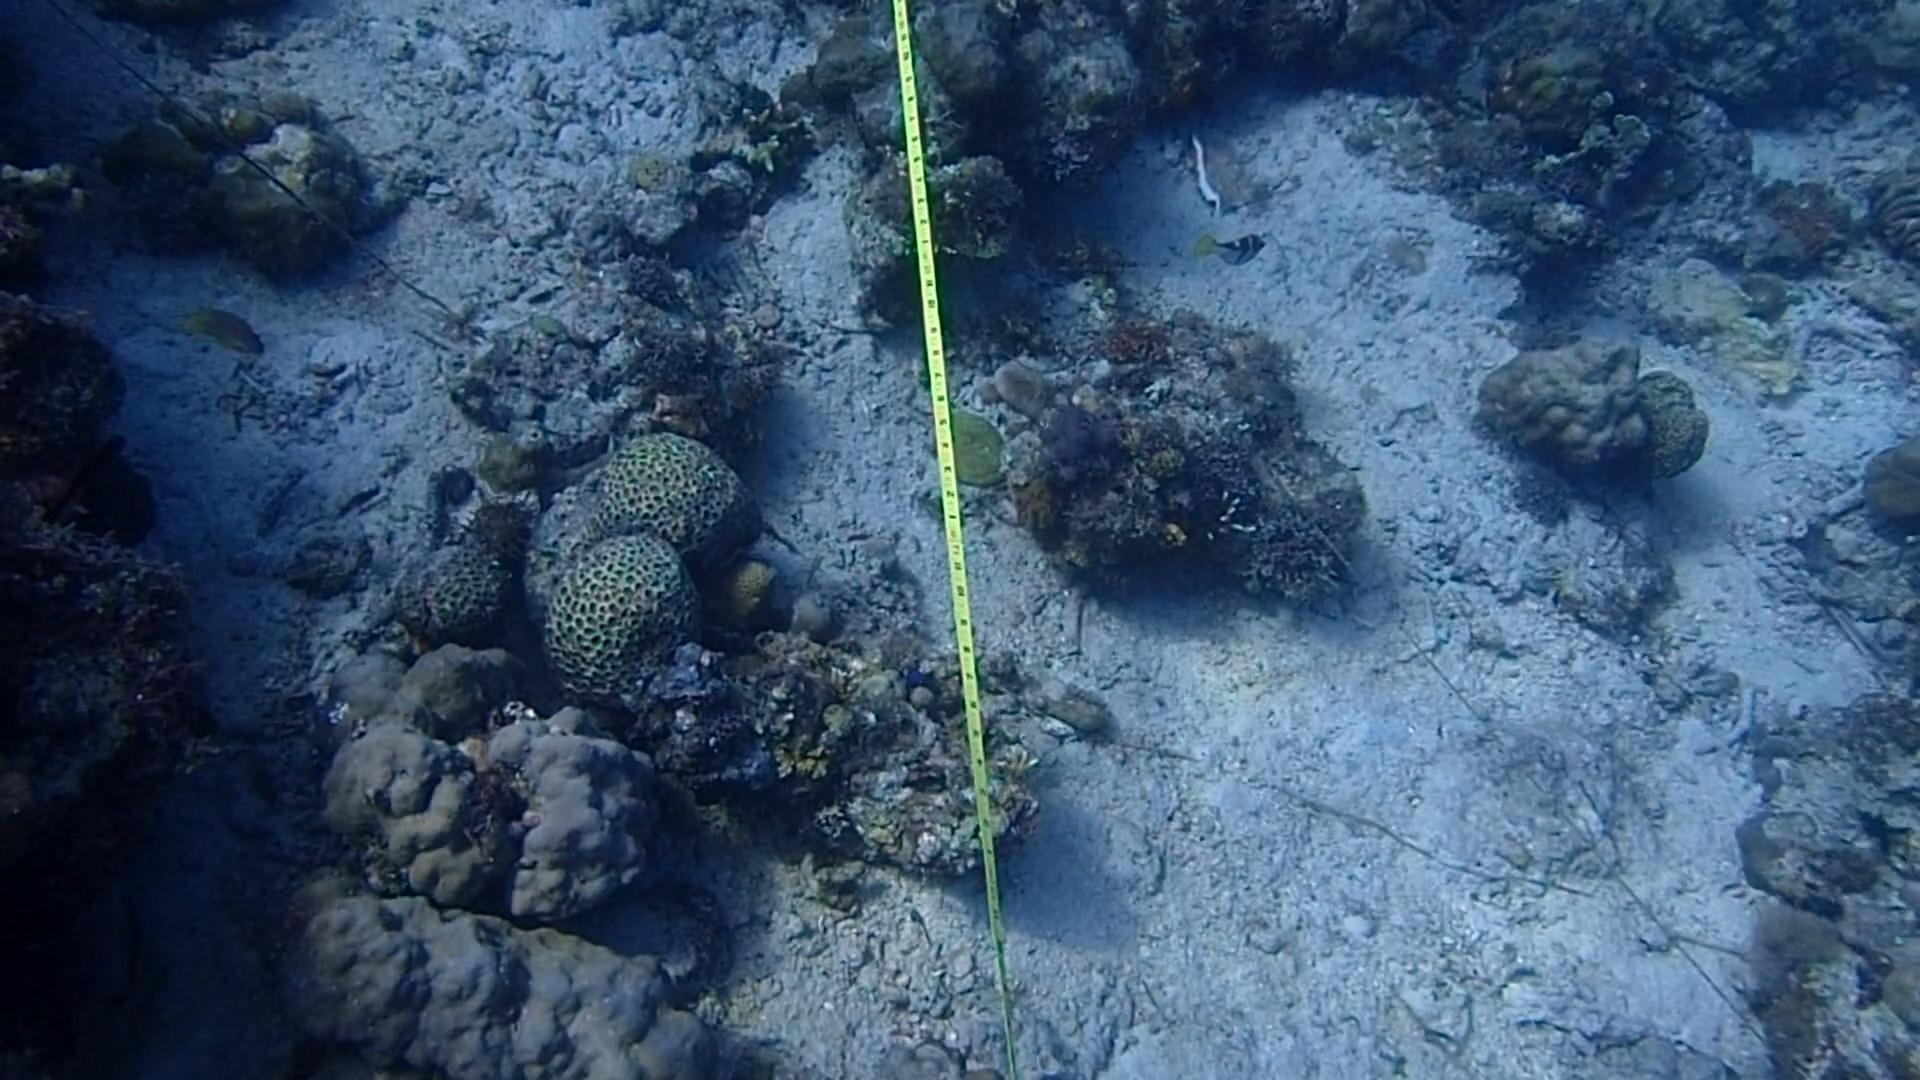Striped Fish: (1193, 215, 1262, 272)
